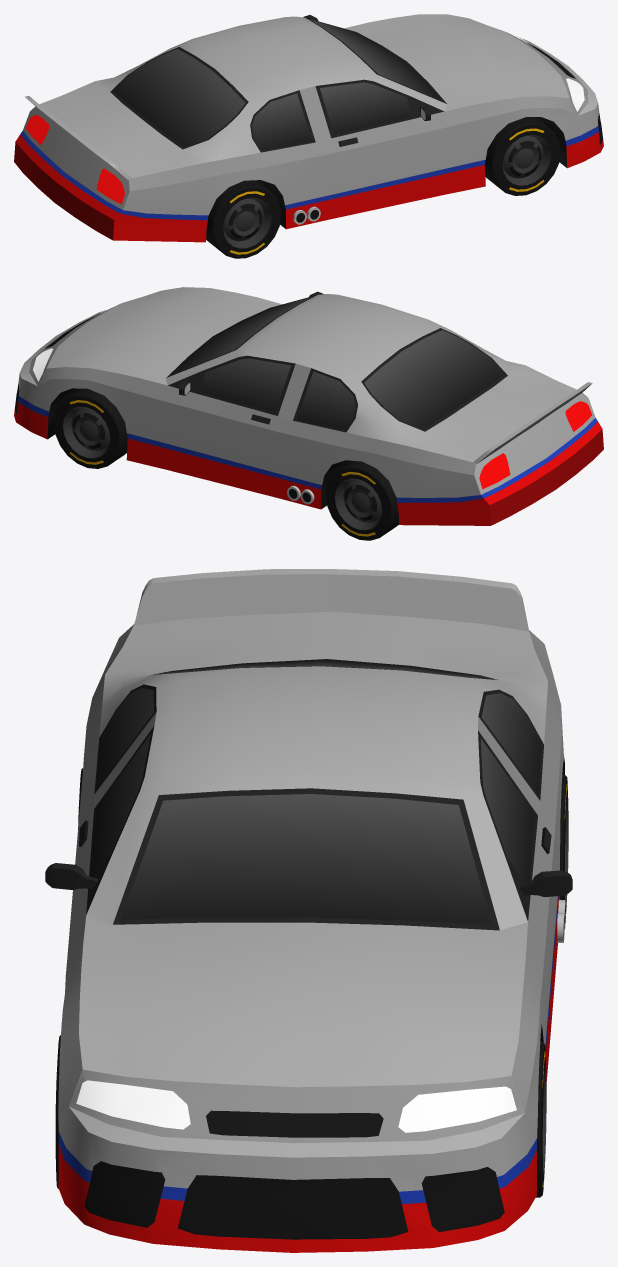
The model's file is Car_144.glb.
3 views of the same model, one above another, from view 1: azimuth 30°, elevation 25°; view 2: azimuth 150°, elevation 25°; view 3: azimuth 270°, elevation 25° (orthographic). The views are drawn at different scales.
Parts seen in each view (by area): view 1: Car_144, wheel_1_Car_144_Wheel_2R, wheel_3_Car_144_Wheel_3R; view 2: Car_144, wheel_0_Car_144_Wheel_1L, wheel_2_Car_144_Wheel_3L; view 3: Car_144, wheel_0_Car_144_Wheel_1L.
Part boxes in pixels (x1,y1,x2,y2): Car_144: (14, 14, 603, 242); wheel_1_Car_144_Wheel_2R: (485, 117, 560, 195); wheel_3_Car_144_Wheel_3R: (206, 180, 281, 258); Car_144: (14, 287, 603, 525); wheel_0_Car_144_Wheel_1L: (53, 388, 127, 468); wheel_2_Car_144_Wheel_3L: (325, 460, 398, 540); Car_144: (45, 569, 572, 1252); wheel_0_Car_144_Wheel_1L: (536, 1041, 546, 1197).
Bounding box in the file's own units: 4.66 × 1.26 × 2.08.
2 materials, 2 textured.
